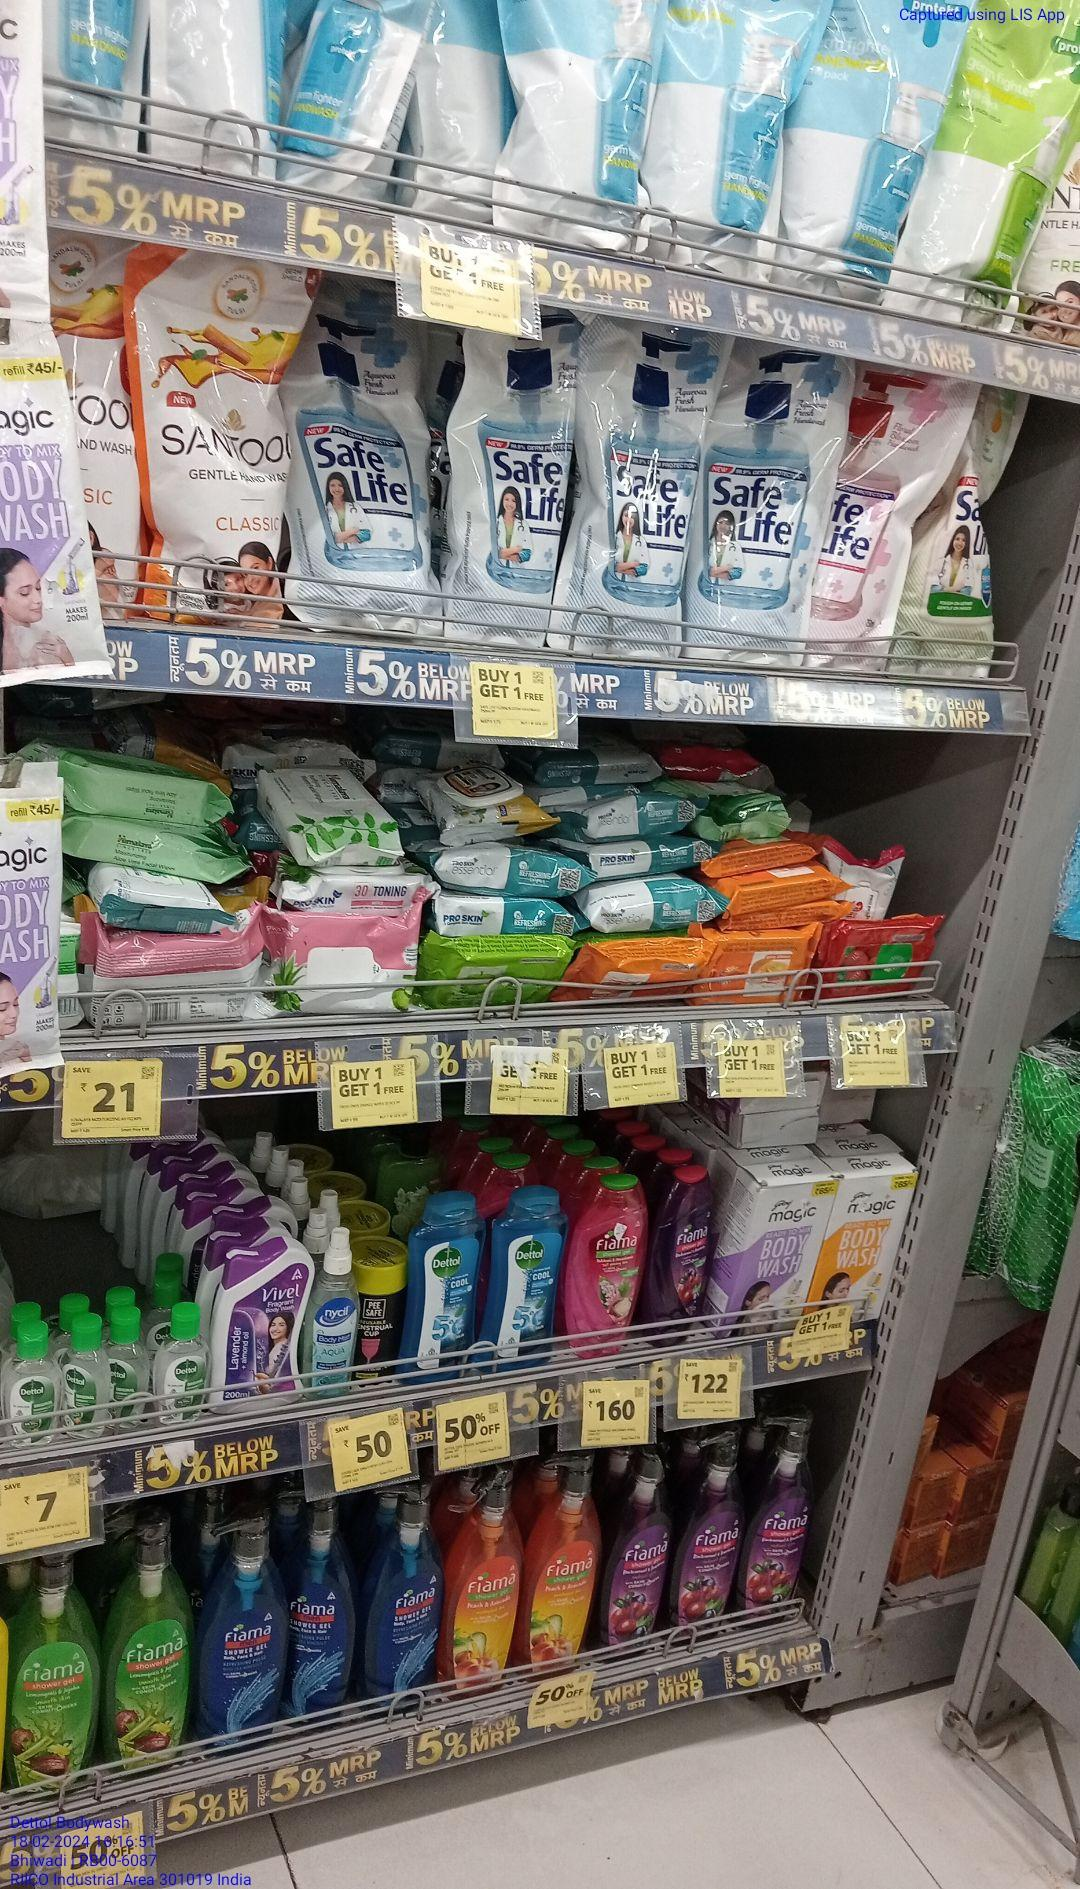Dettol_Bodywash_Cool: (479, 1185, 557, 1373), (405, 1199, 474, 1383)
Fiama_Shower_Gel_Patchouli_and_Macadamia_250ML: (563, 1174, 637, 1360)
